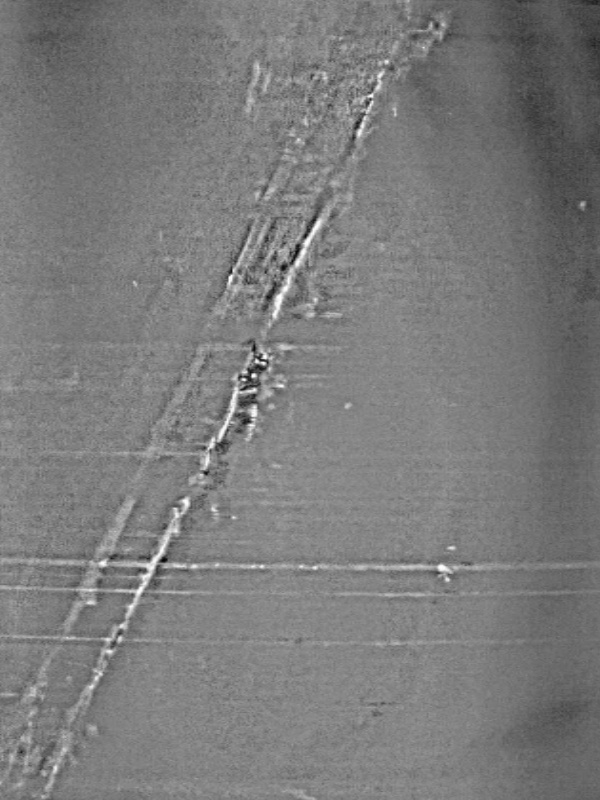splice_vulcanized: (2, 1, 414, 800)
